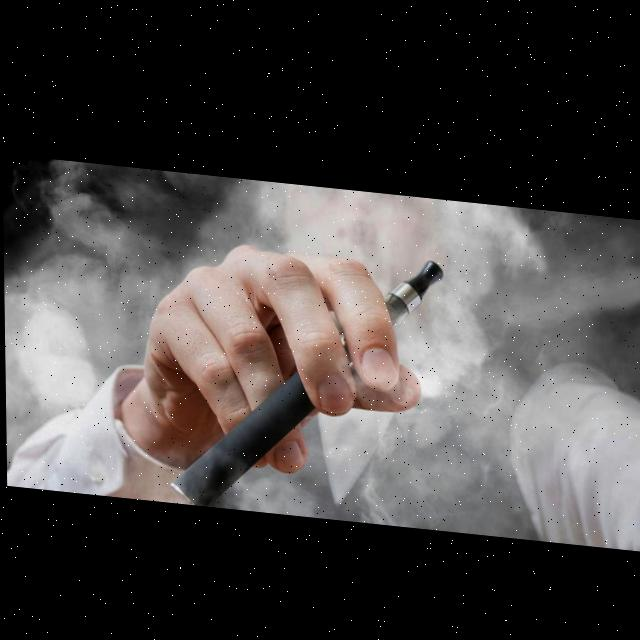vape: (166, 229, 447, 522)
